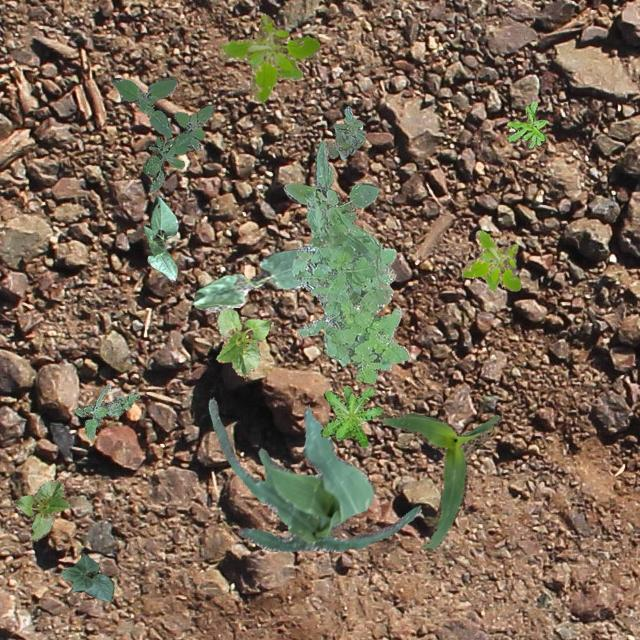crop: (208, 396, 420, 550), (376, 412, 499, 552), (190, 248, 302, 310), (216, 308, 270, 377), (12, 478, 68, 540), (142, 194, 178, 280), (59, 552, 112, 600)
weed: (291, 190, 408, 382), (112, 76, 215, 192), (218, 12, 318, 102), (282, 140, 378, 222), (460, 228, 520, 290), (320, 384, 380, 446), (74, 382, 138, 438), (326, 105, 364, 158), (506, 100, 546, 148)
